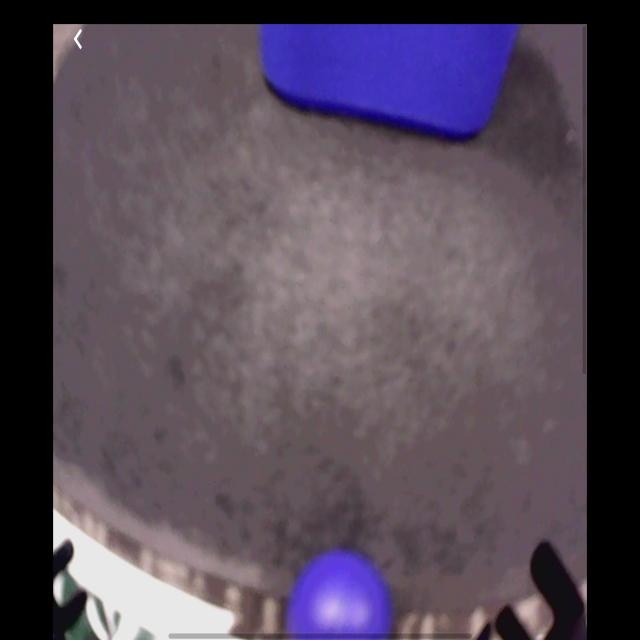ball: (291, 551, 392, 640)
